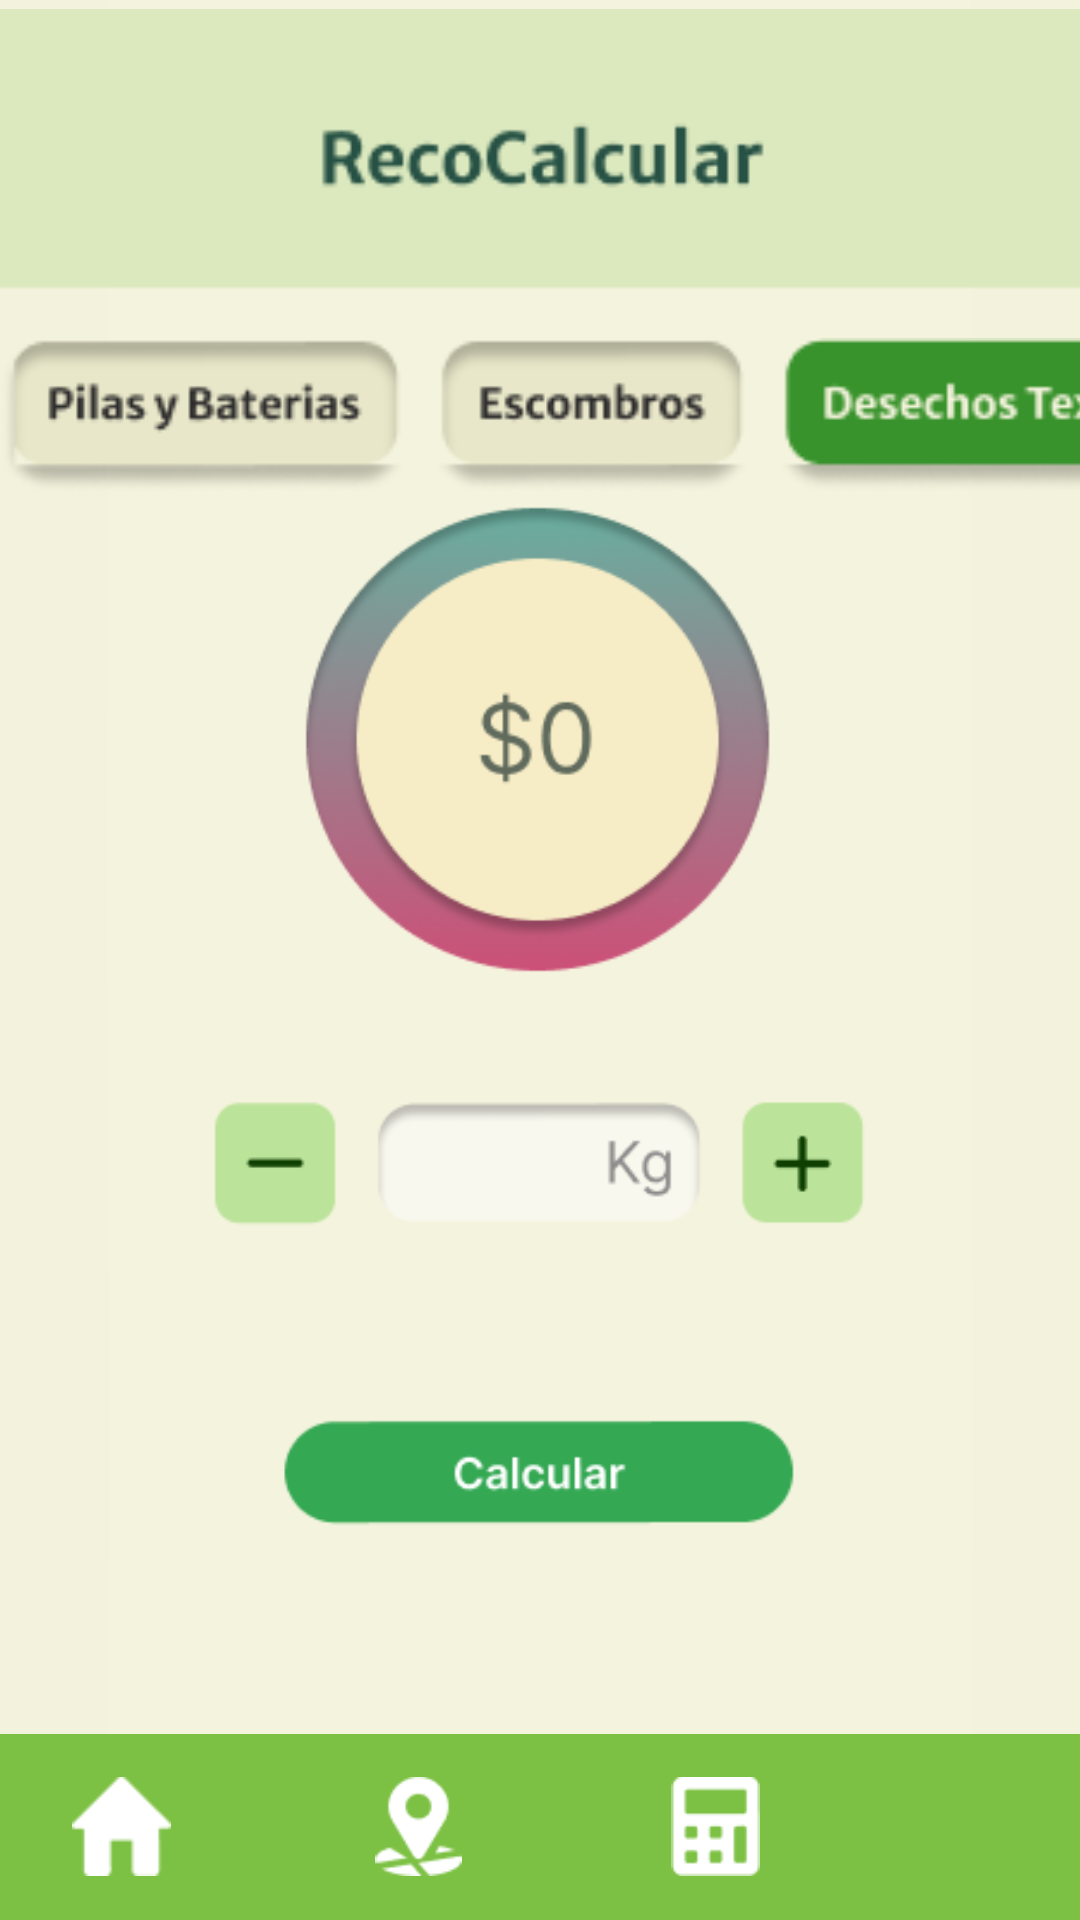

Screen size 1080*1920. Icon name, then its center in pixels as [x,y]:
calculator: [715,1826]
